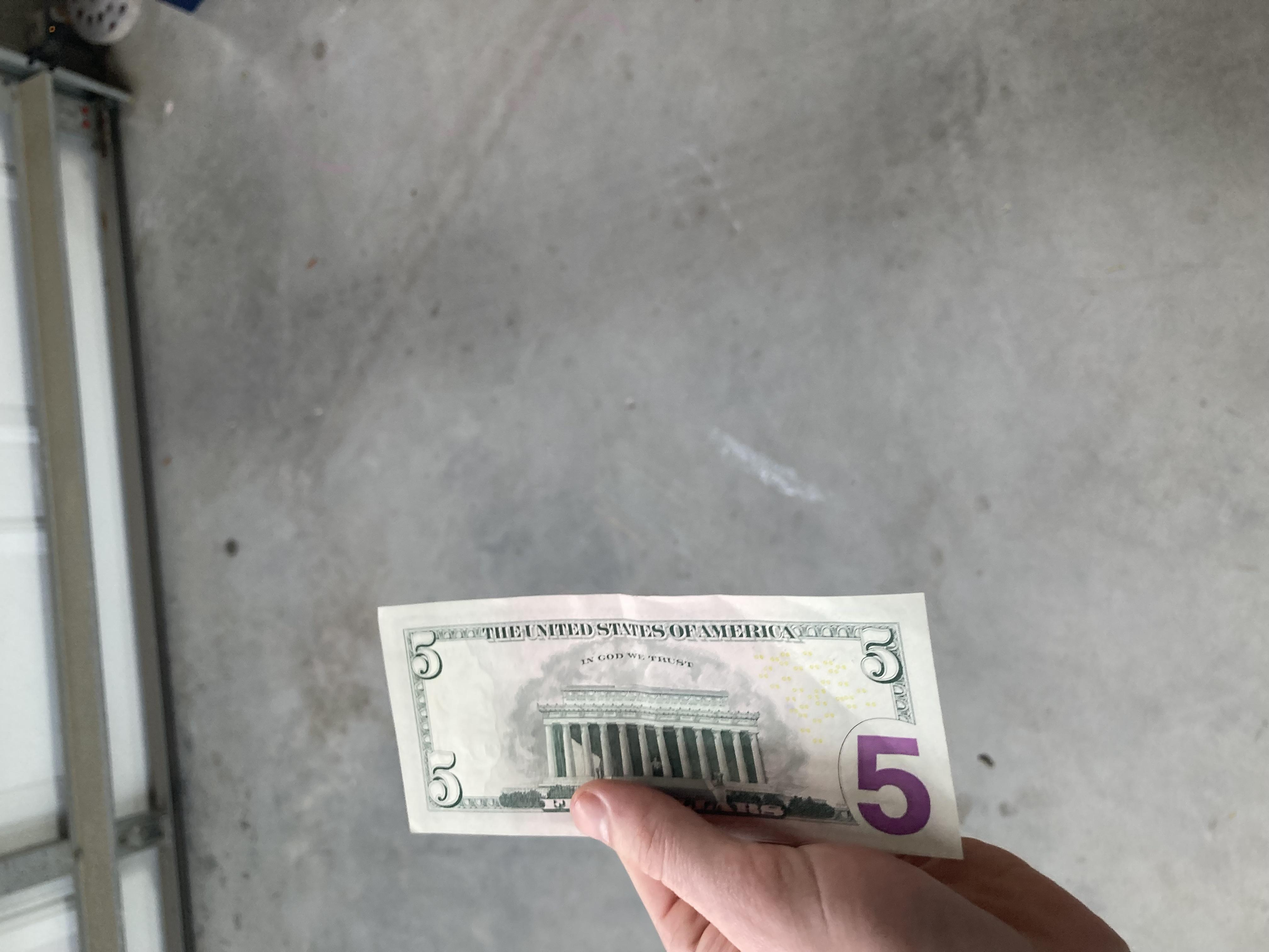five-back: (124, 282, 480, 724)
